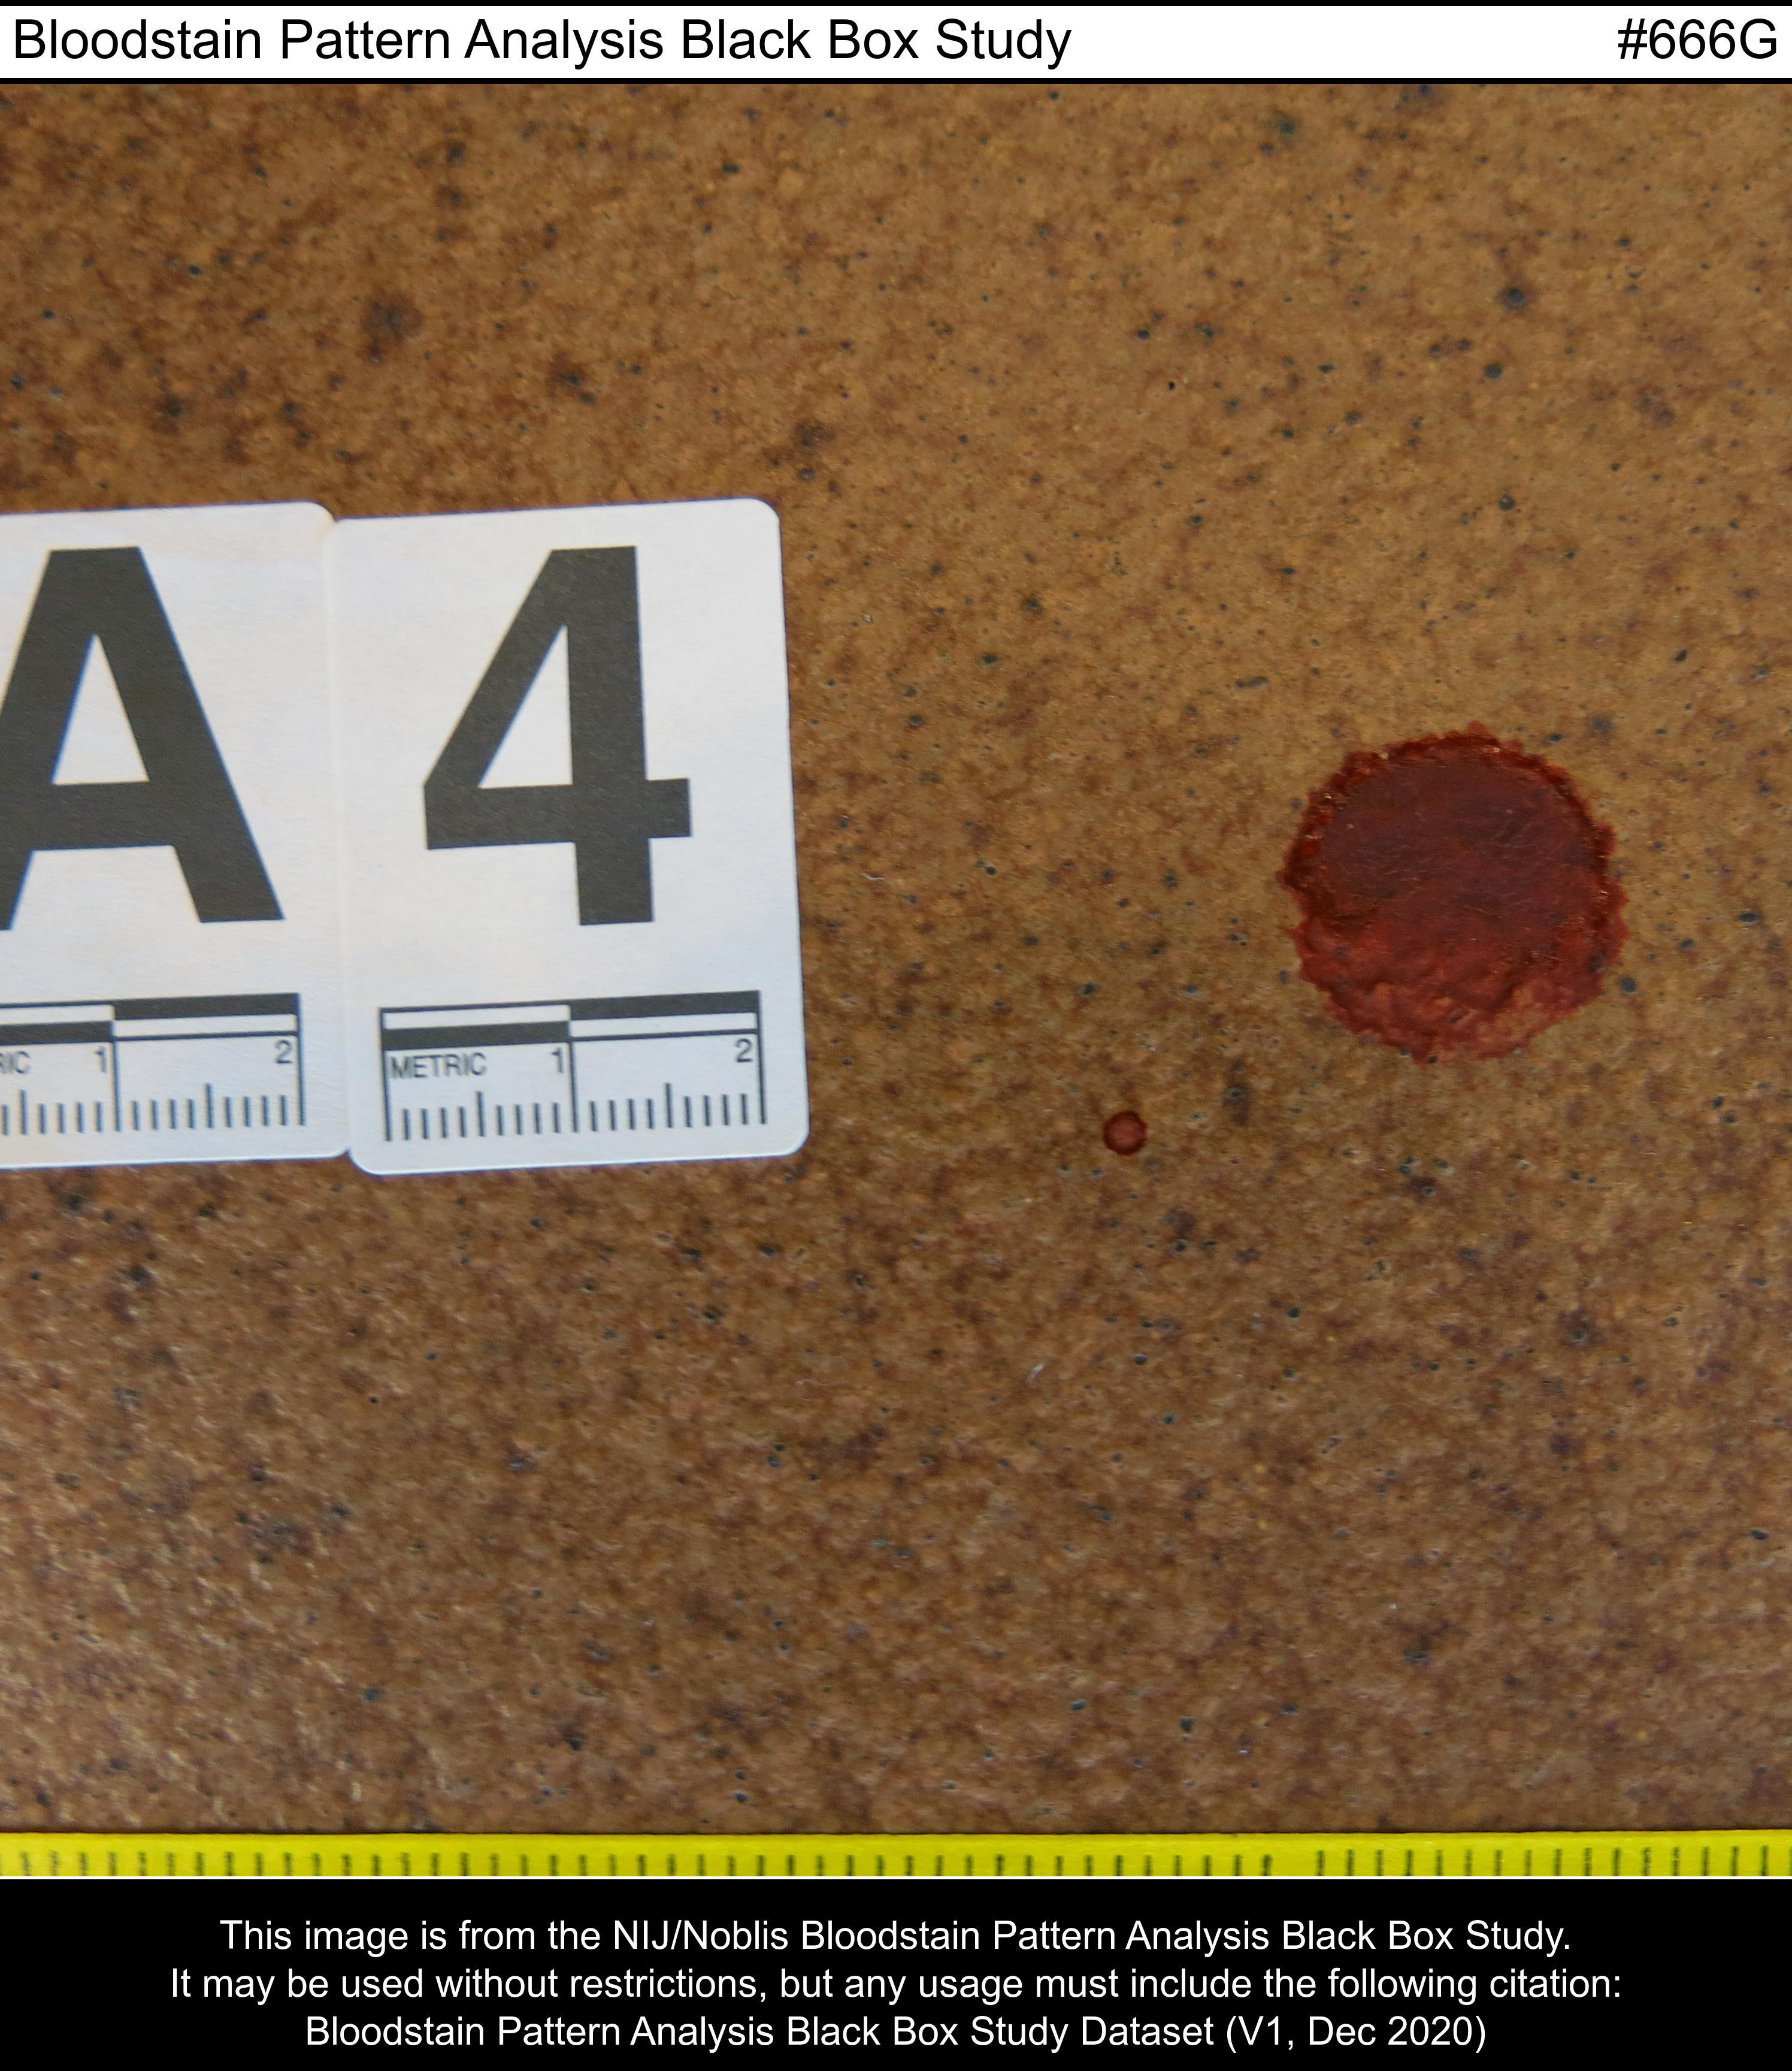Passive: (940, 659, 1767, 1264)
